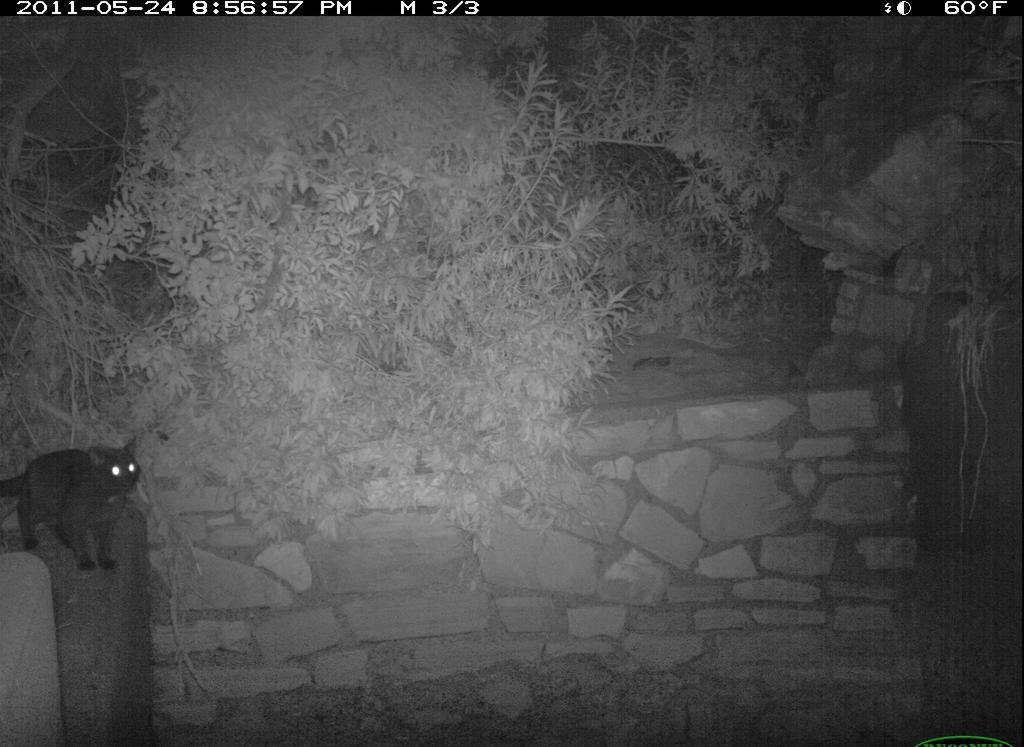cat: (2, 434, 149, 574)
